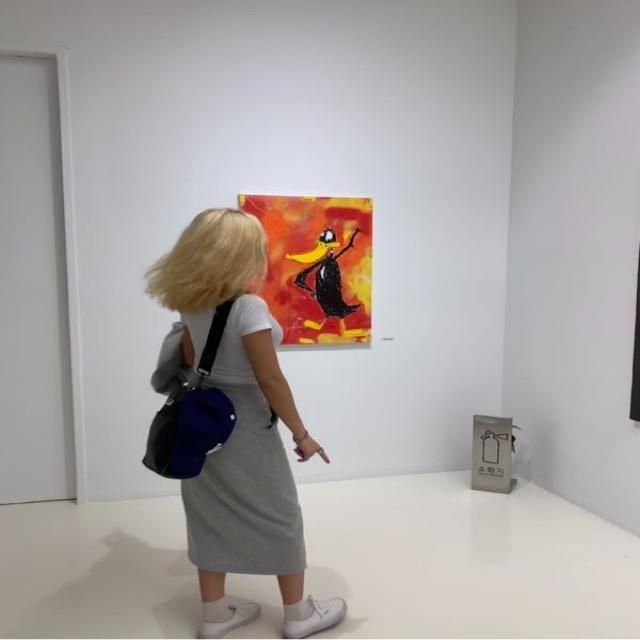shortsleeve: (176, 292, 284, 386)
skirt: (182, 384, 306, 576)
